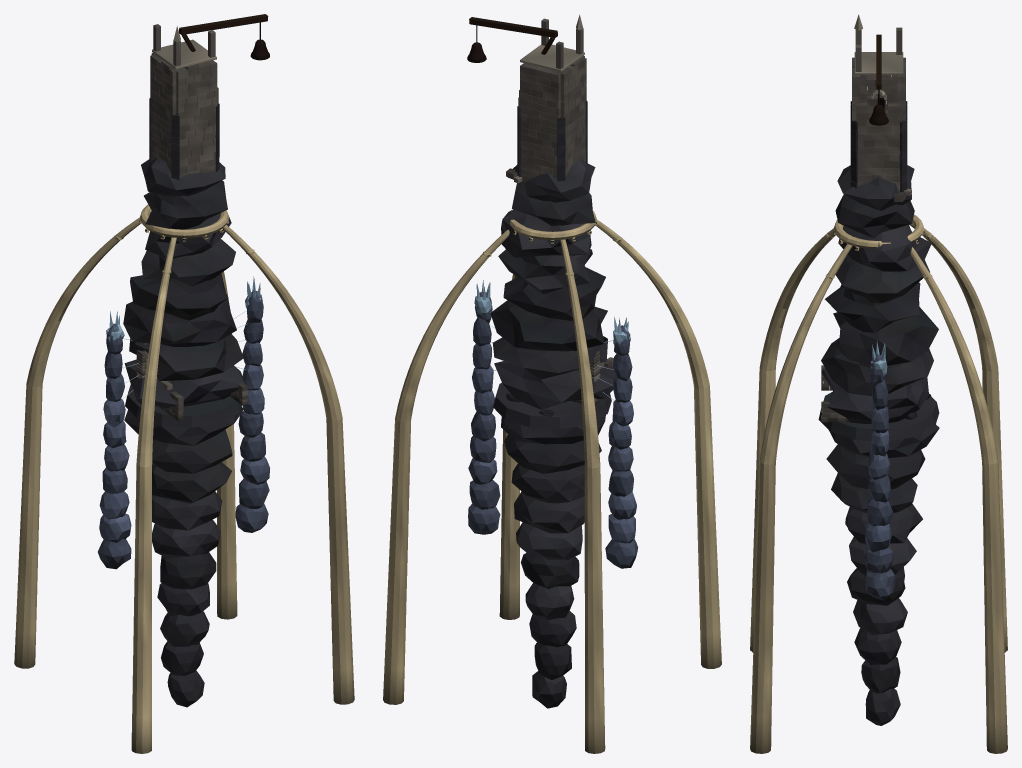
The model's file is hollow_crypt_kit.glb.
3 views of the same model, side by side, from view 1: azimuth 30°, elevation 25°; view 2: azimuth 150°, elevation 25°; view 3: azimuth 270°, elevation 25° (orthographic).
Parts seen in each view (by area): view 1: Kit_BellTower, Kit_BoneCrown, Kit_RockPillar, Kit_GreatWeb, Kit_ChapelRuin; view 2: Kit_BellTower, Kit_BoneCrown, Kit_RockPillar, Kit_GreatWeb; view 3: Kit_BellTower, Kit_BoneCrown, Kit_RockPillar, Kit_GreatWeb, Kit_ChapelRuin.
Boxes of the visible parts, x1,y1,x2,y2 form: Kit_BellTower: (123,14,269,408); Kit_BoneCrown: (14,204,354,753); Kit_RockPillar: (124,384,244,707); Kit_GreatWeb: (98,276,269,569); Kit_ChapelRuin: (158,379,247,420); Kit_BellTower: (467,14,615,409); Kit_BoneCrown: (383,209,721,753); Kit_RockPillar: (493,383,611,708); Kit_GreatWeb: (468,280,638,568); Kit_BellTower: (821,14,938,423); Kit_BoneCrown: (750,214,1007,753); Kit_RockPillar: (818,392,939,725); Kit_GreatWeb: (864,340,895,600); Kit_ChapelRuin: (821,365,930,422).
Bounding box in the file's own units: 50.81 × 153 × 50.81.
